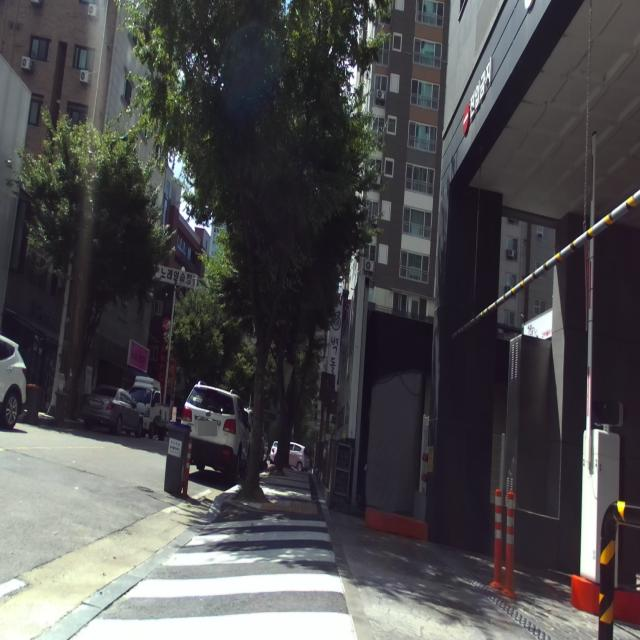횡단보도: (67, 518, 358, 640)
